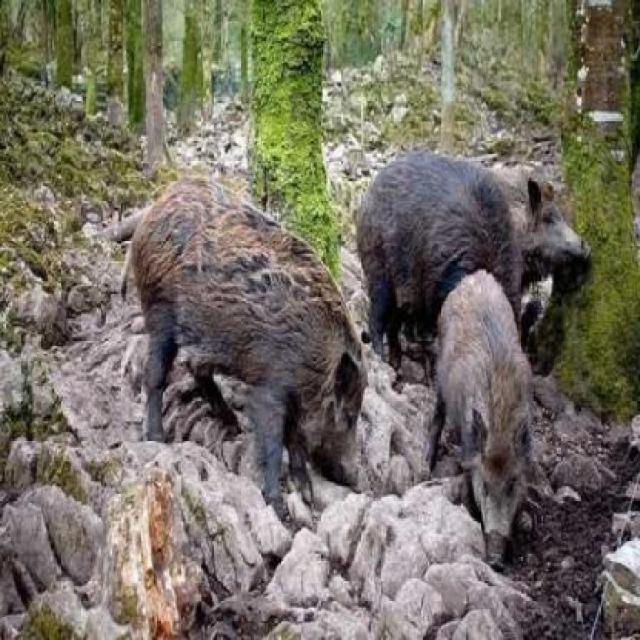Boar: (104, 130, 436, 484)
